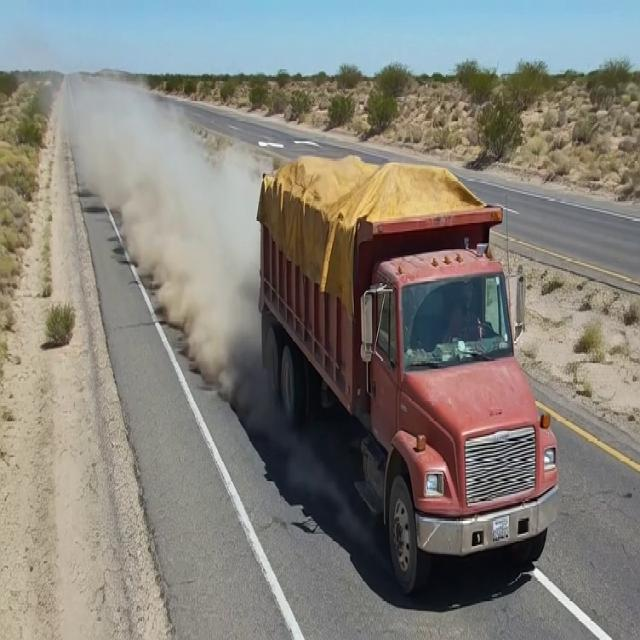trailer: (255, 151, 507, 241)
truck: (254, 119, 564, 561)
